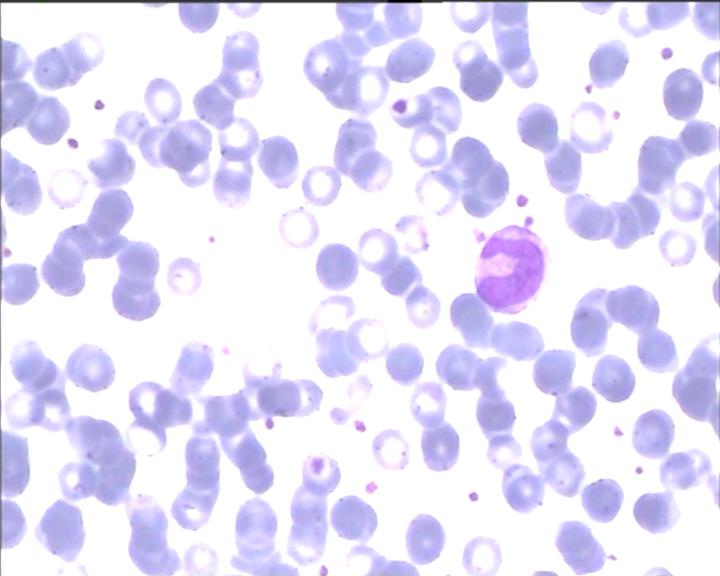mono: (467, 221, 550, 316)
